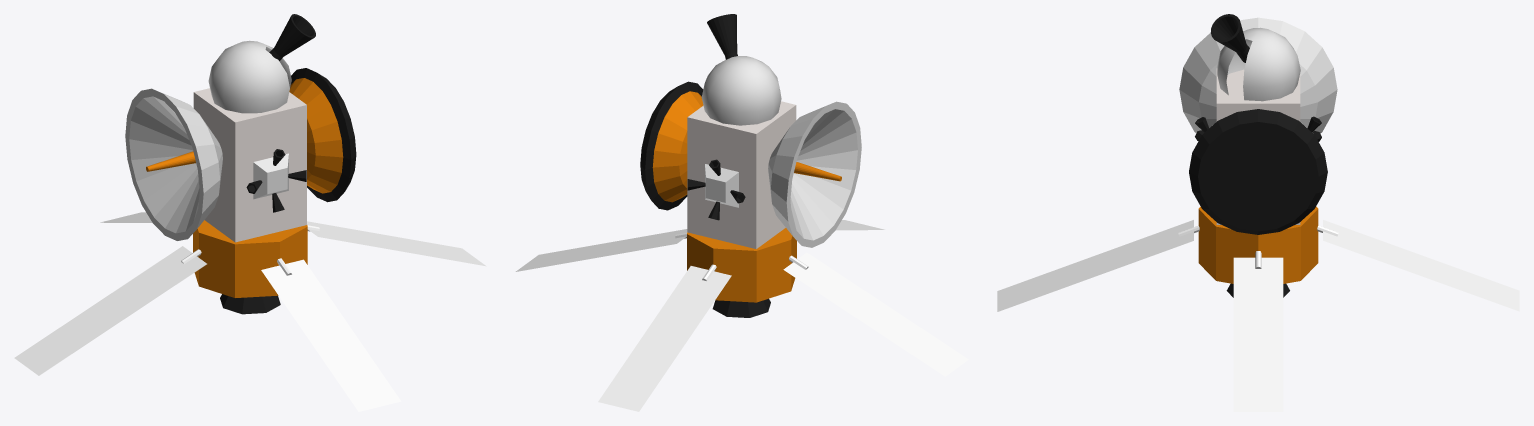
Rendered from satelite.glb.
3 renders of one model, left to right at view 1: azimuth 30°, elevation 25°; view 2: azimuth 150°, elevation 25°; view 3: azimuth 270°, elevation 25°, orthographic. The views are drawn at different scales.
Visible parts, largest first — view 1: satellite; view 2: satellite; view 3: satellite.
Boxes of the visible parts, left/top/right/bottom form: satellite: left=14, top=14, right=486, bottom=411; satellite: left=515, top=14, right=968, bottom=411; satellite: left=997, top=14, right=1519, bottom=411.
Size of the model in its own units: 8.72 by 5.54 by 8.72.
